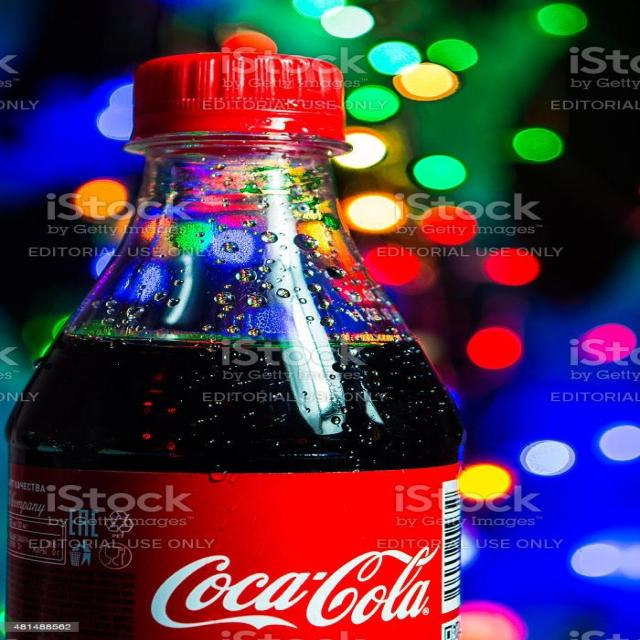coca-cola: (8, 49, 486, 640)
